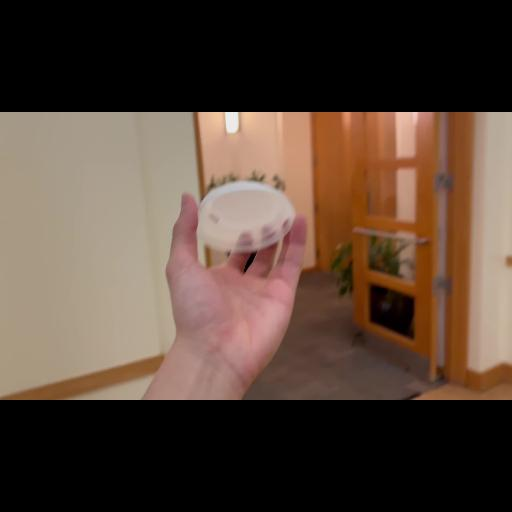lp_cup_lids: (194, 180, 298, 254)
